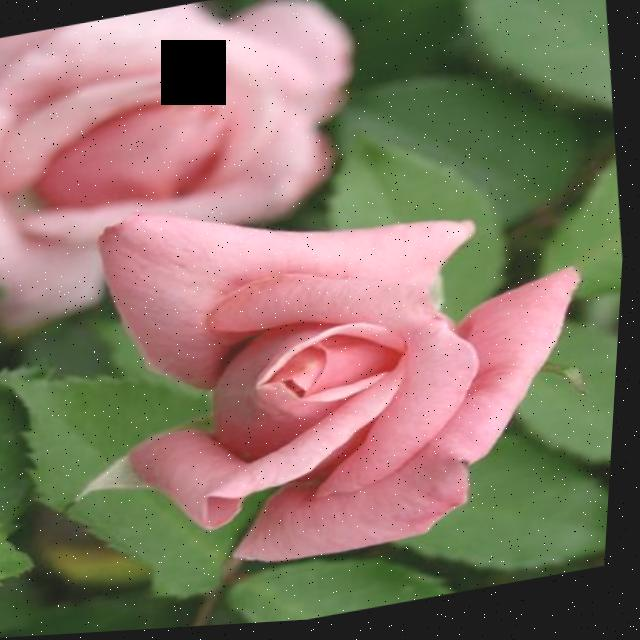rose: (36, 131, 633, 630), (0, 0, 389, 339)
